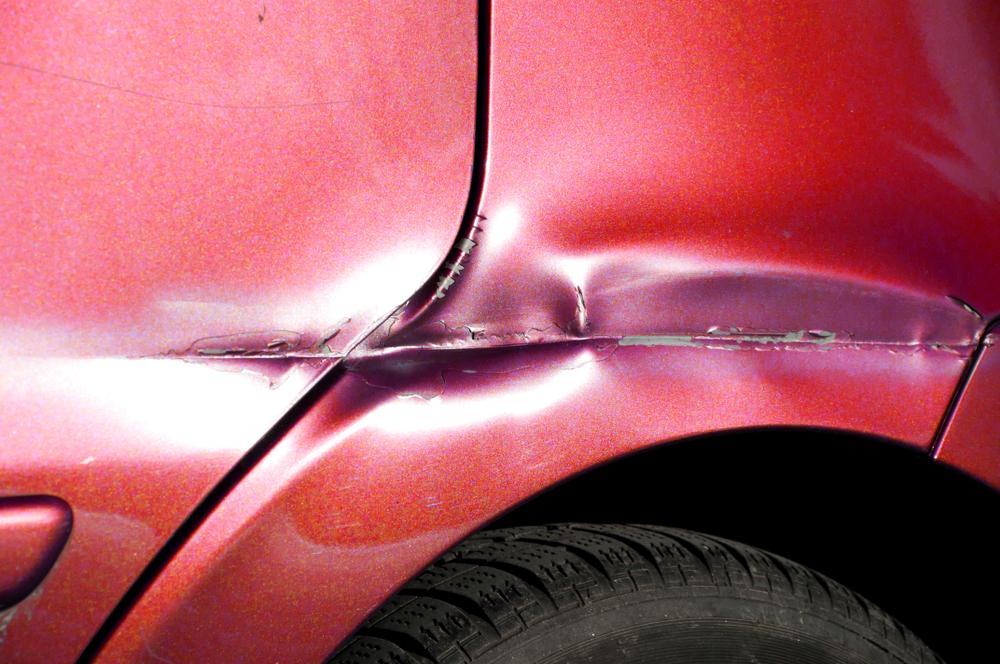dent: (323, 241, 987, 430)
